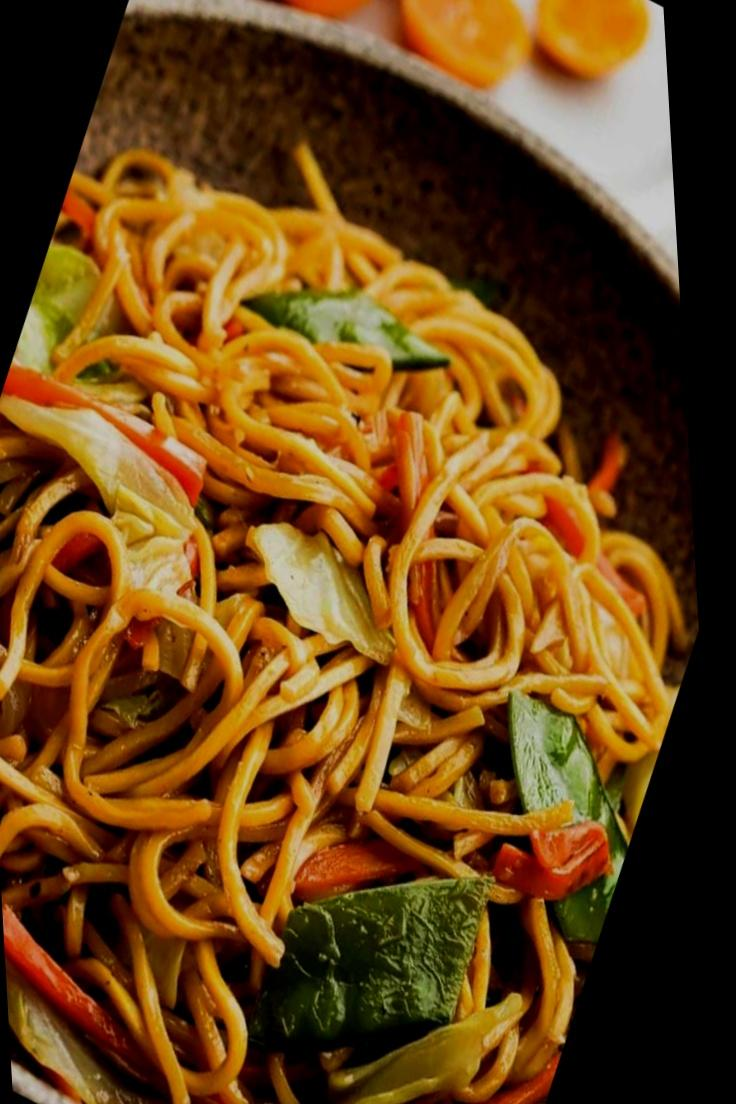pancit bihon: (0, 164, 684, 1103)
